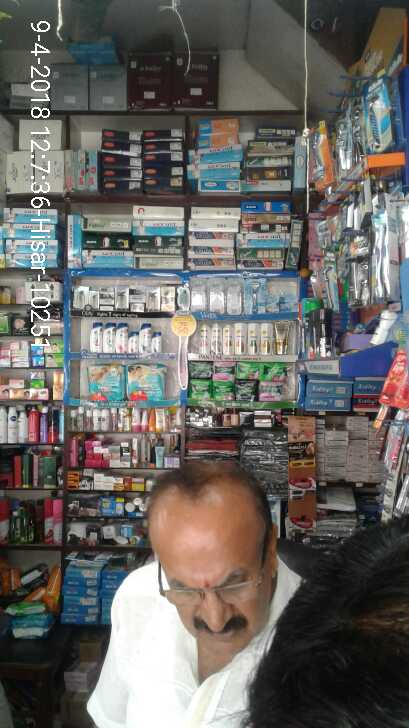venus: (245, 277, 266, 313), (190, 277, 210, 311), (225, 277, 243, 314), (267, 294, 298, 314), (210, 277, 225, 314)
